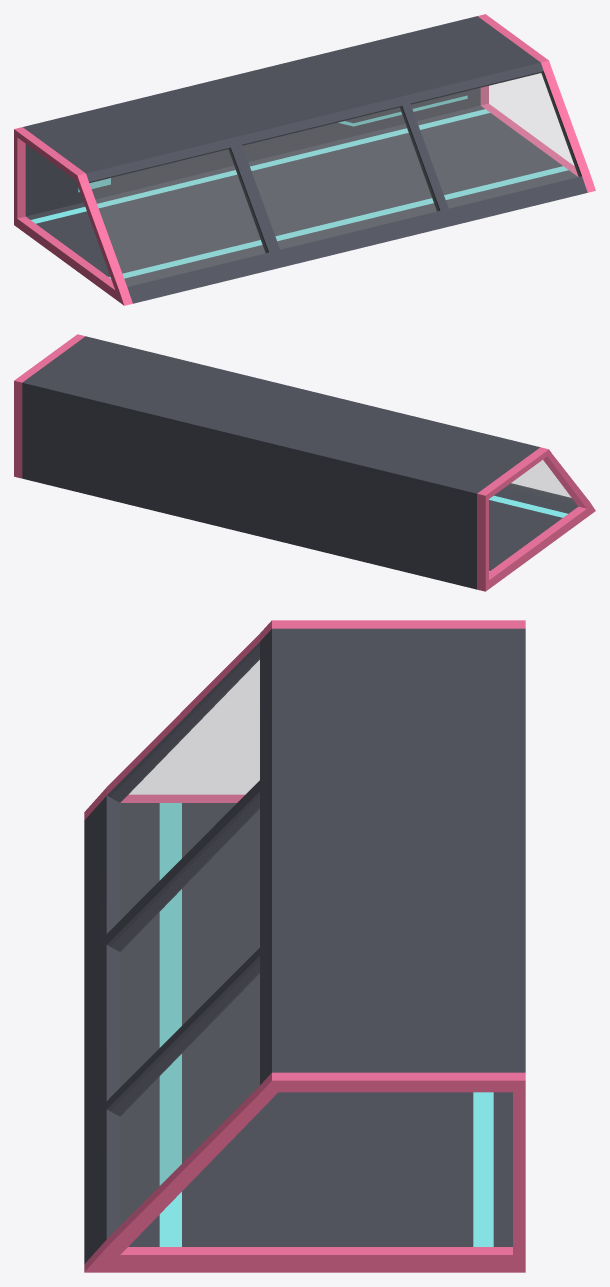
The picture shows the model from 3 angles, top to bottom: view 1: azimuth 30°, elevation 25°; view 2: azimuth 150°, elevation 25°; view 3: azimuth 270°, elevation 25°; orthographic projection. The views are drawn at different scales.
Visible parts, largest first — view 1: PK_SD_06; view 2: PK_SD_06; view 3: PK_SD_06.
Boxes of the visible parts, x1,y1,x2,y2 form: PK_SD_06: [14, 14, 595, 305]; PK_SD_06: [14, 334, 595, 591]; PK_SD_06: [84, 620, 525, 1272].
Size of the model in its own units: 14.39 by 2.8 by 5.83.
